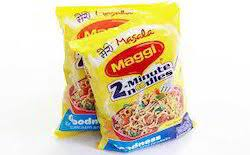maggie: (81, 21, 194, 149)
